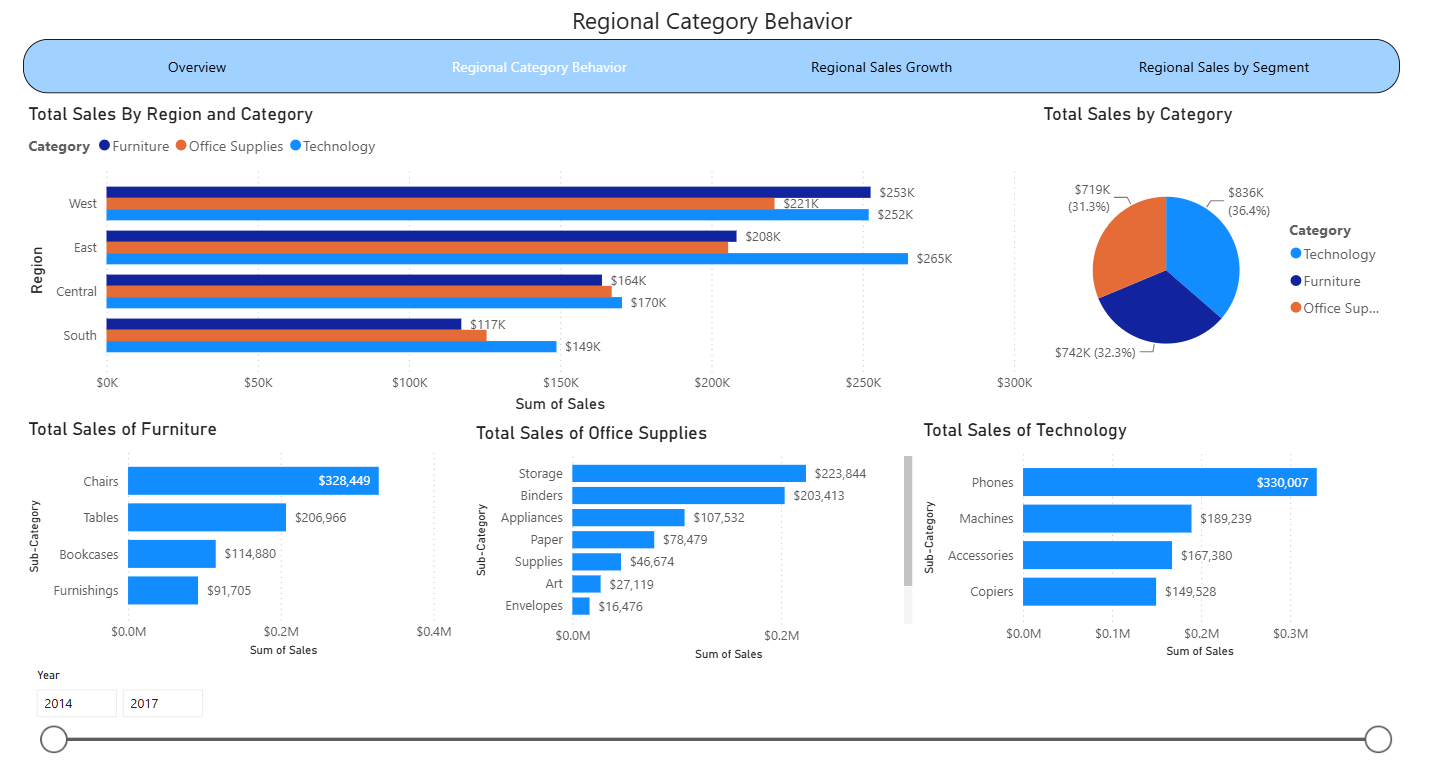

Layout of this report page (visuals, bound fields, positions):
{"tool":"powerbi","page":{"name":"Regional Category Behavior","canvas":[1280,720],"ordinal":1},"visuals":[{"type":"textbox","box":[0,0,1280,45],"z":0},{"type":"slicer","fields":{"Values":["Superstore.Year"]},"box":[0,616.2,1280,103.8],"z":1000},{"type":"clusteredBarChart","title":"Total Sales By Region and Category","fields":{"Category":["Superstore.Region"],"Y":["Sum(Superstore.Sales)"],"Series":["Superstore.Category"]},"box":[0,96.6,942.8,292.3],"z":2000},{"type":"clusteredBarChart","title":"Total Sales of Furniture","fields":{"Category":["Superstore.Sub-Category"],"Y":["Sum(Superstore.Sales)"]},"box":[0,388.6,408.6,227.1],"z":3000},{"type":"clusteredBarChart","title":"Total Sales of Office Supplies","fields":{"Category":["Superstore.Sub-Category"],"Y":["Sum(Superstore.Sales)"]},"box":[415.7,392.9,415.7,227.1],"z":4000},{"type":"clusteredBarChart","title":"Total Sales of Technology","fields":{"Category":["Superstore.Sub-Category"],"Y":["Sum(Superstore.Sales)"]},"box":[831.4,390,448.6,227.1],"z":5000},{"type":"pieChart","title":"Total Sales by Category","fields":{"Category":["Superstore.Category"],"Y":["Sum(Superstore.Sales)"]},"box":[942.8,96.6,337.5,292.3],"z":6000},{"type":"pageNavigator","box":[0,36.7,1279.1,50.1],"z":7000}]}

Visuals, with their boxes on the page's 1280x720 design canvas (x1, y1, x2, y2). These are canvas units, not pixel positions in the 1432x767 screenshot, which may show the page scaled, cropped or inside an application window:
textbox: bbox(0, 0, 1280, 45)
slicer - Superstore.Year: bbox(0, 616, 1280, 720)
"Total Sales By Region and Category" clusteredBarChart: bbox(0, 97, 943, 389)
"Total Sales of Furniture" clusteredBarChart: bbox(0, 389, 409, 616)
"Total Sales of Office Supplies" clusteredBarChart: bbox(416, 393, 831, 620)
"Total Sales of Technology" clusteredBarChart: bbox(831, 390, 1280, 617)
"Total Sales by Category" pieChart: bbox(943, 97, 1280, 389)
pageNavigator: bbox(0, 37, 1279, 87)
